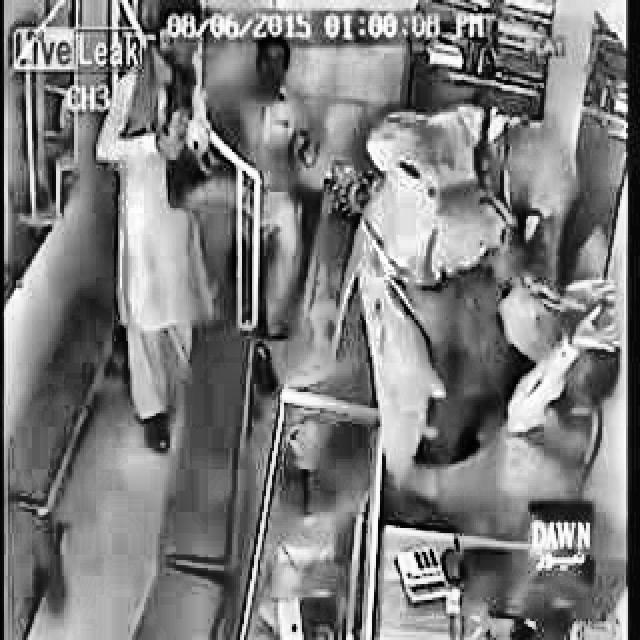Weapon: (332, 74, 634, 496), (126, 23, 280, 422), (246, 21, 380, 178)
